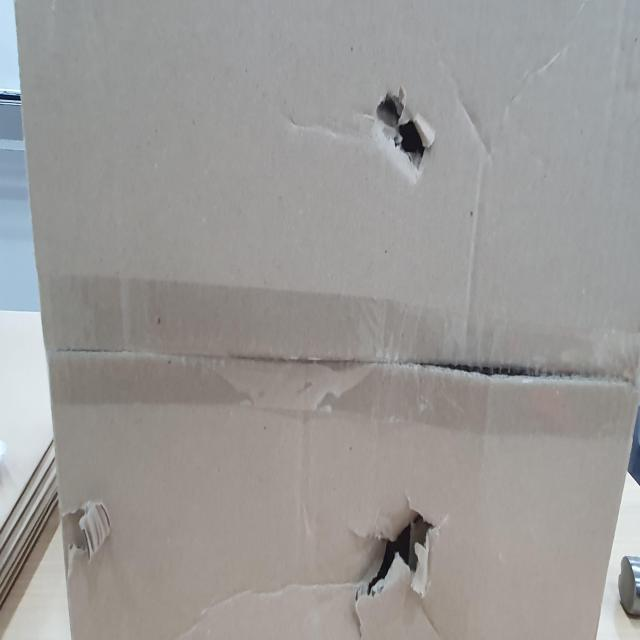damaged: (353, 494, 439, 590), (367, 74, 436, 173)
